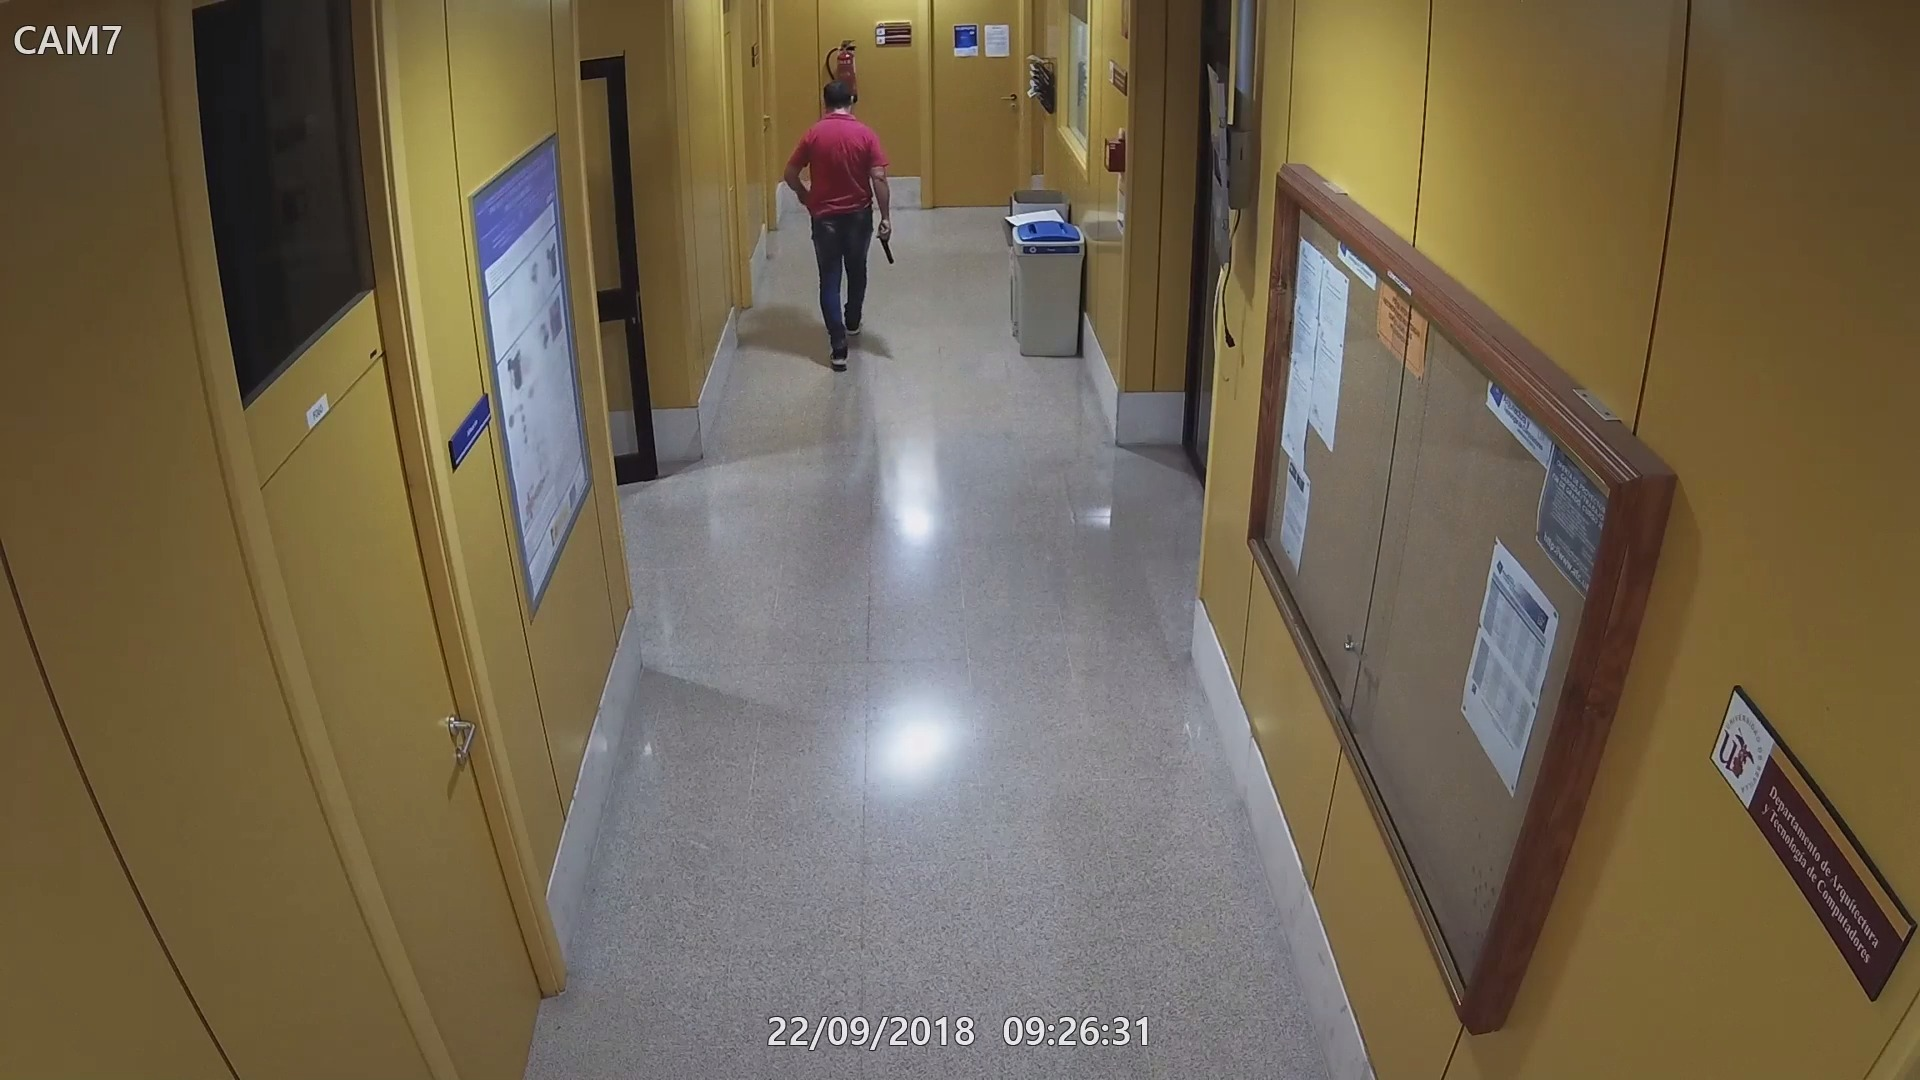Handgun: (872, 218, 898, 266)
